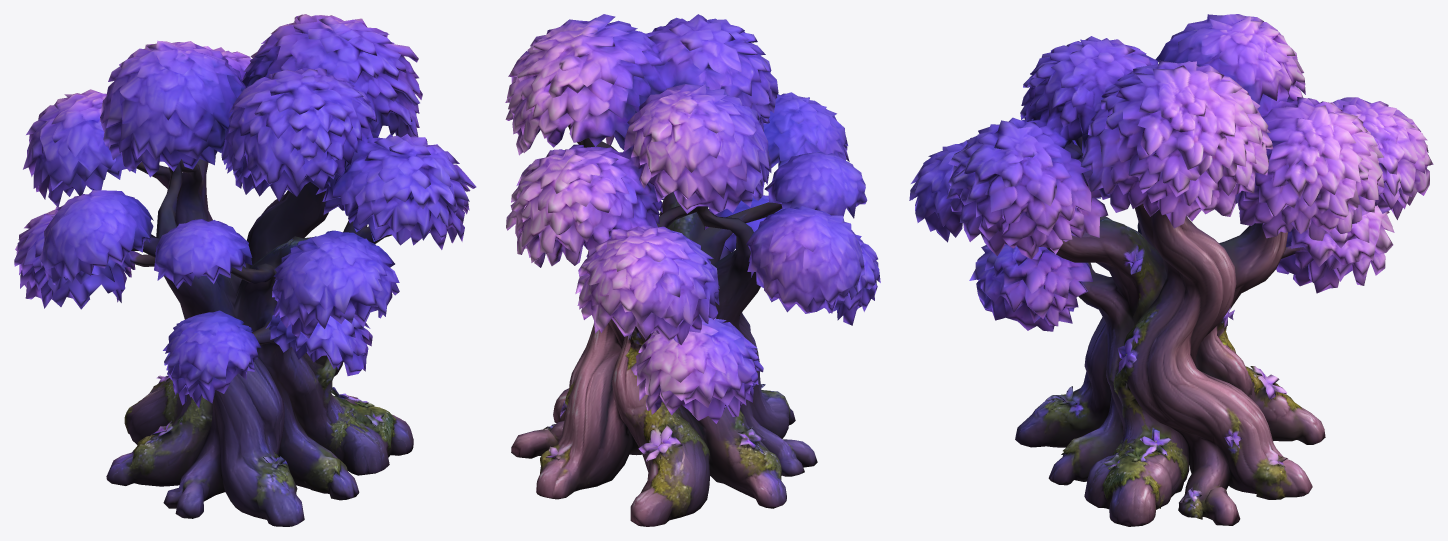
File: H_TreeTwisted_HD_src.glb
The picture shows the model from 3 angles, left to right: view 1: azimuth 30°, elevation 25°; view 2: azimuth 150°, elevation 25°; view 3: azimuth 270°, elevation 25°; orthographic projection. The views are drawn at different scales.
Visible parts, largest first — view 1: tripo_node_5568790c-3109-43c5-99b0-1a74e750d3bd; view 2: tripo_node_5568790c-3109-43c5-99b0-1a74e750d3bd; view 3: tripo_node_5568790c-3109-43c5-99b0-1a74e750d3bd.
Part boxes in pixels (x1=…): tripo_node_5568790c-3109-43c5-99b0-1a74e750d3bd: x1=14, y1=14, x2=476, y2=526; tripo_node_5568790c-3109-43c5-99b0-1a74e750d3bd: x1=505, y1=14, x2=880, y2=526; tripo_node_5568790c-3109-43c5-99b0-1a74e750d3bd: x1=909, y1=14, x2=1433, y2=526.
Bounding box in the file's own units: 0.7801 × 0.8886 × 0.9786.
Materials: 1 (1 with a texture image).
